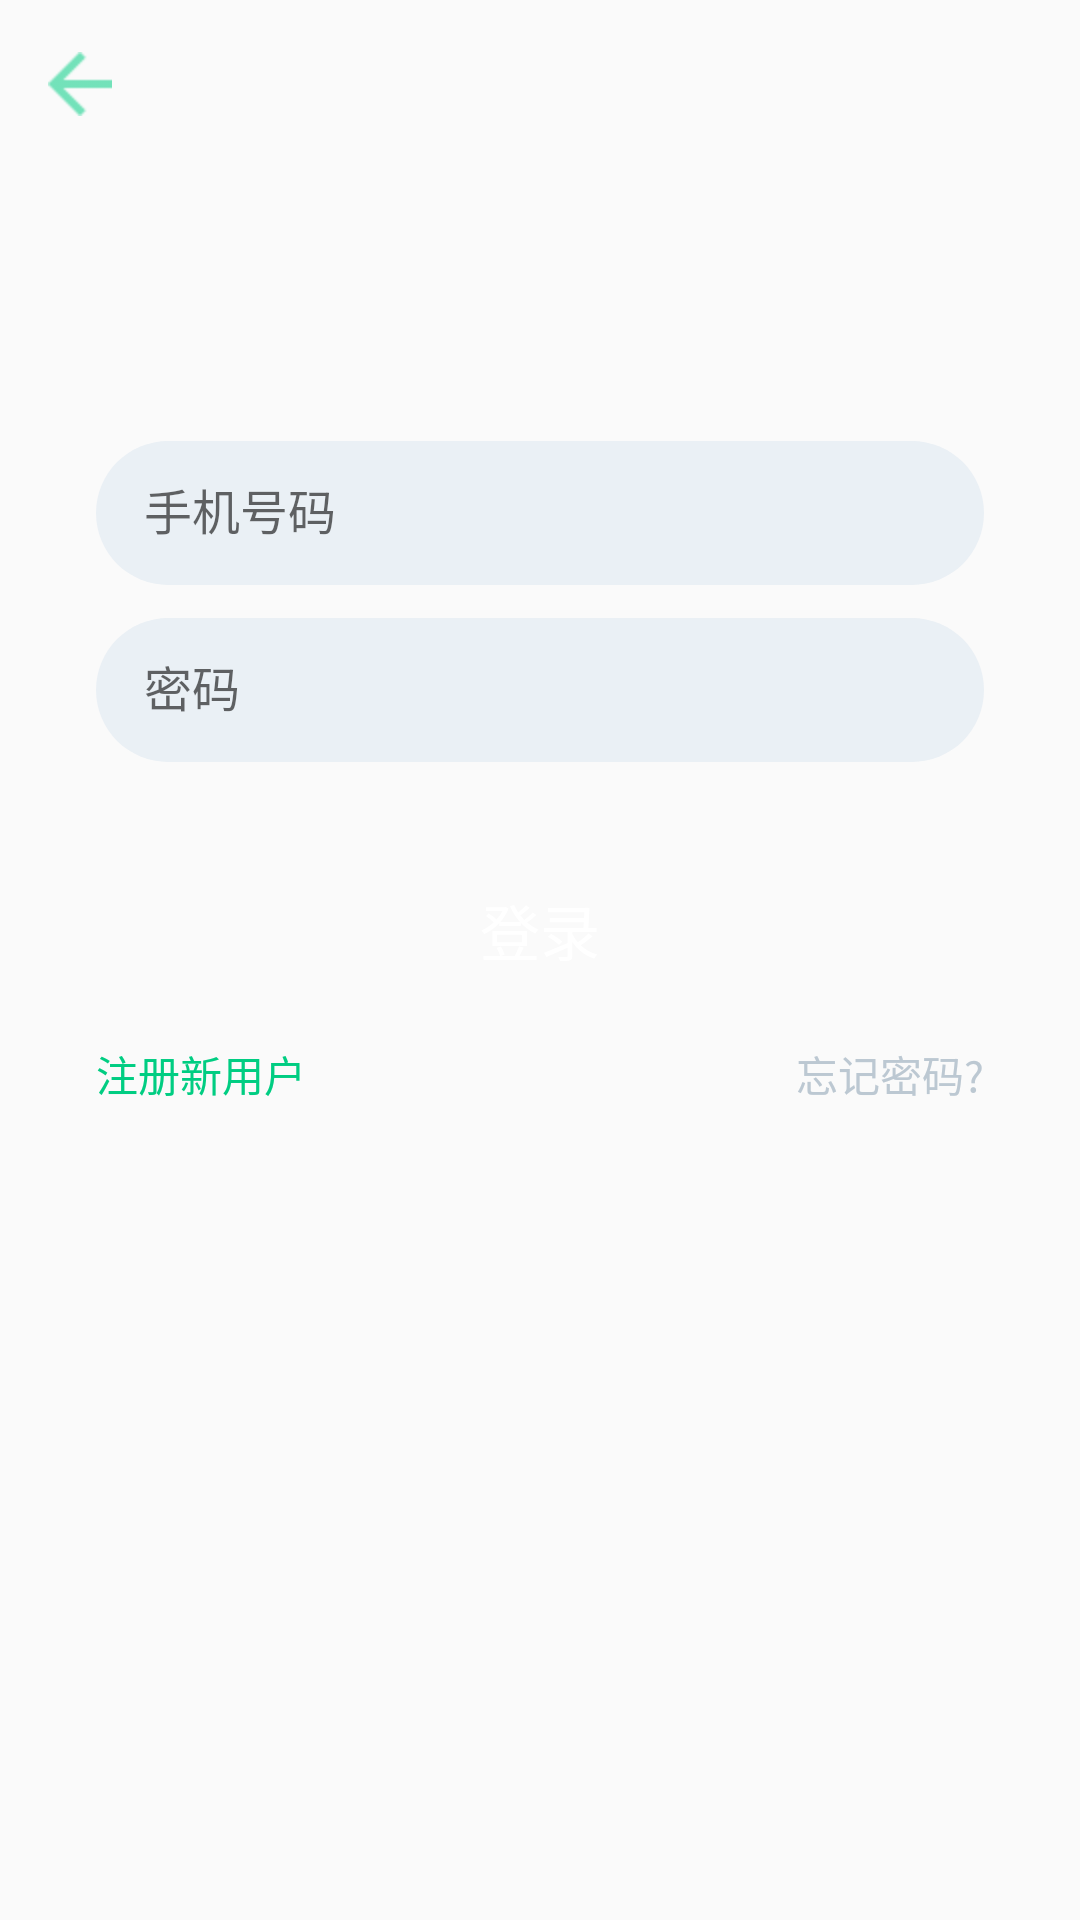

Locate icon controls on the screen. Image size 1080×1920, boxes as bbox=[x1, y1, x2, y2].
back: bbox=[48, 52, 112, 116]
